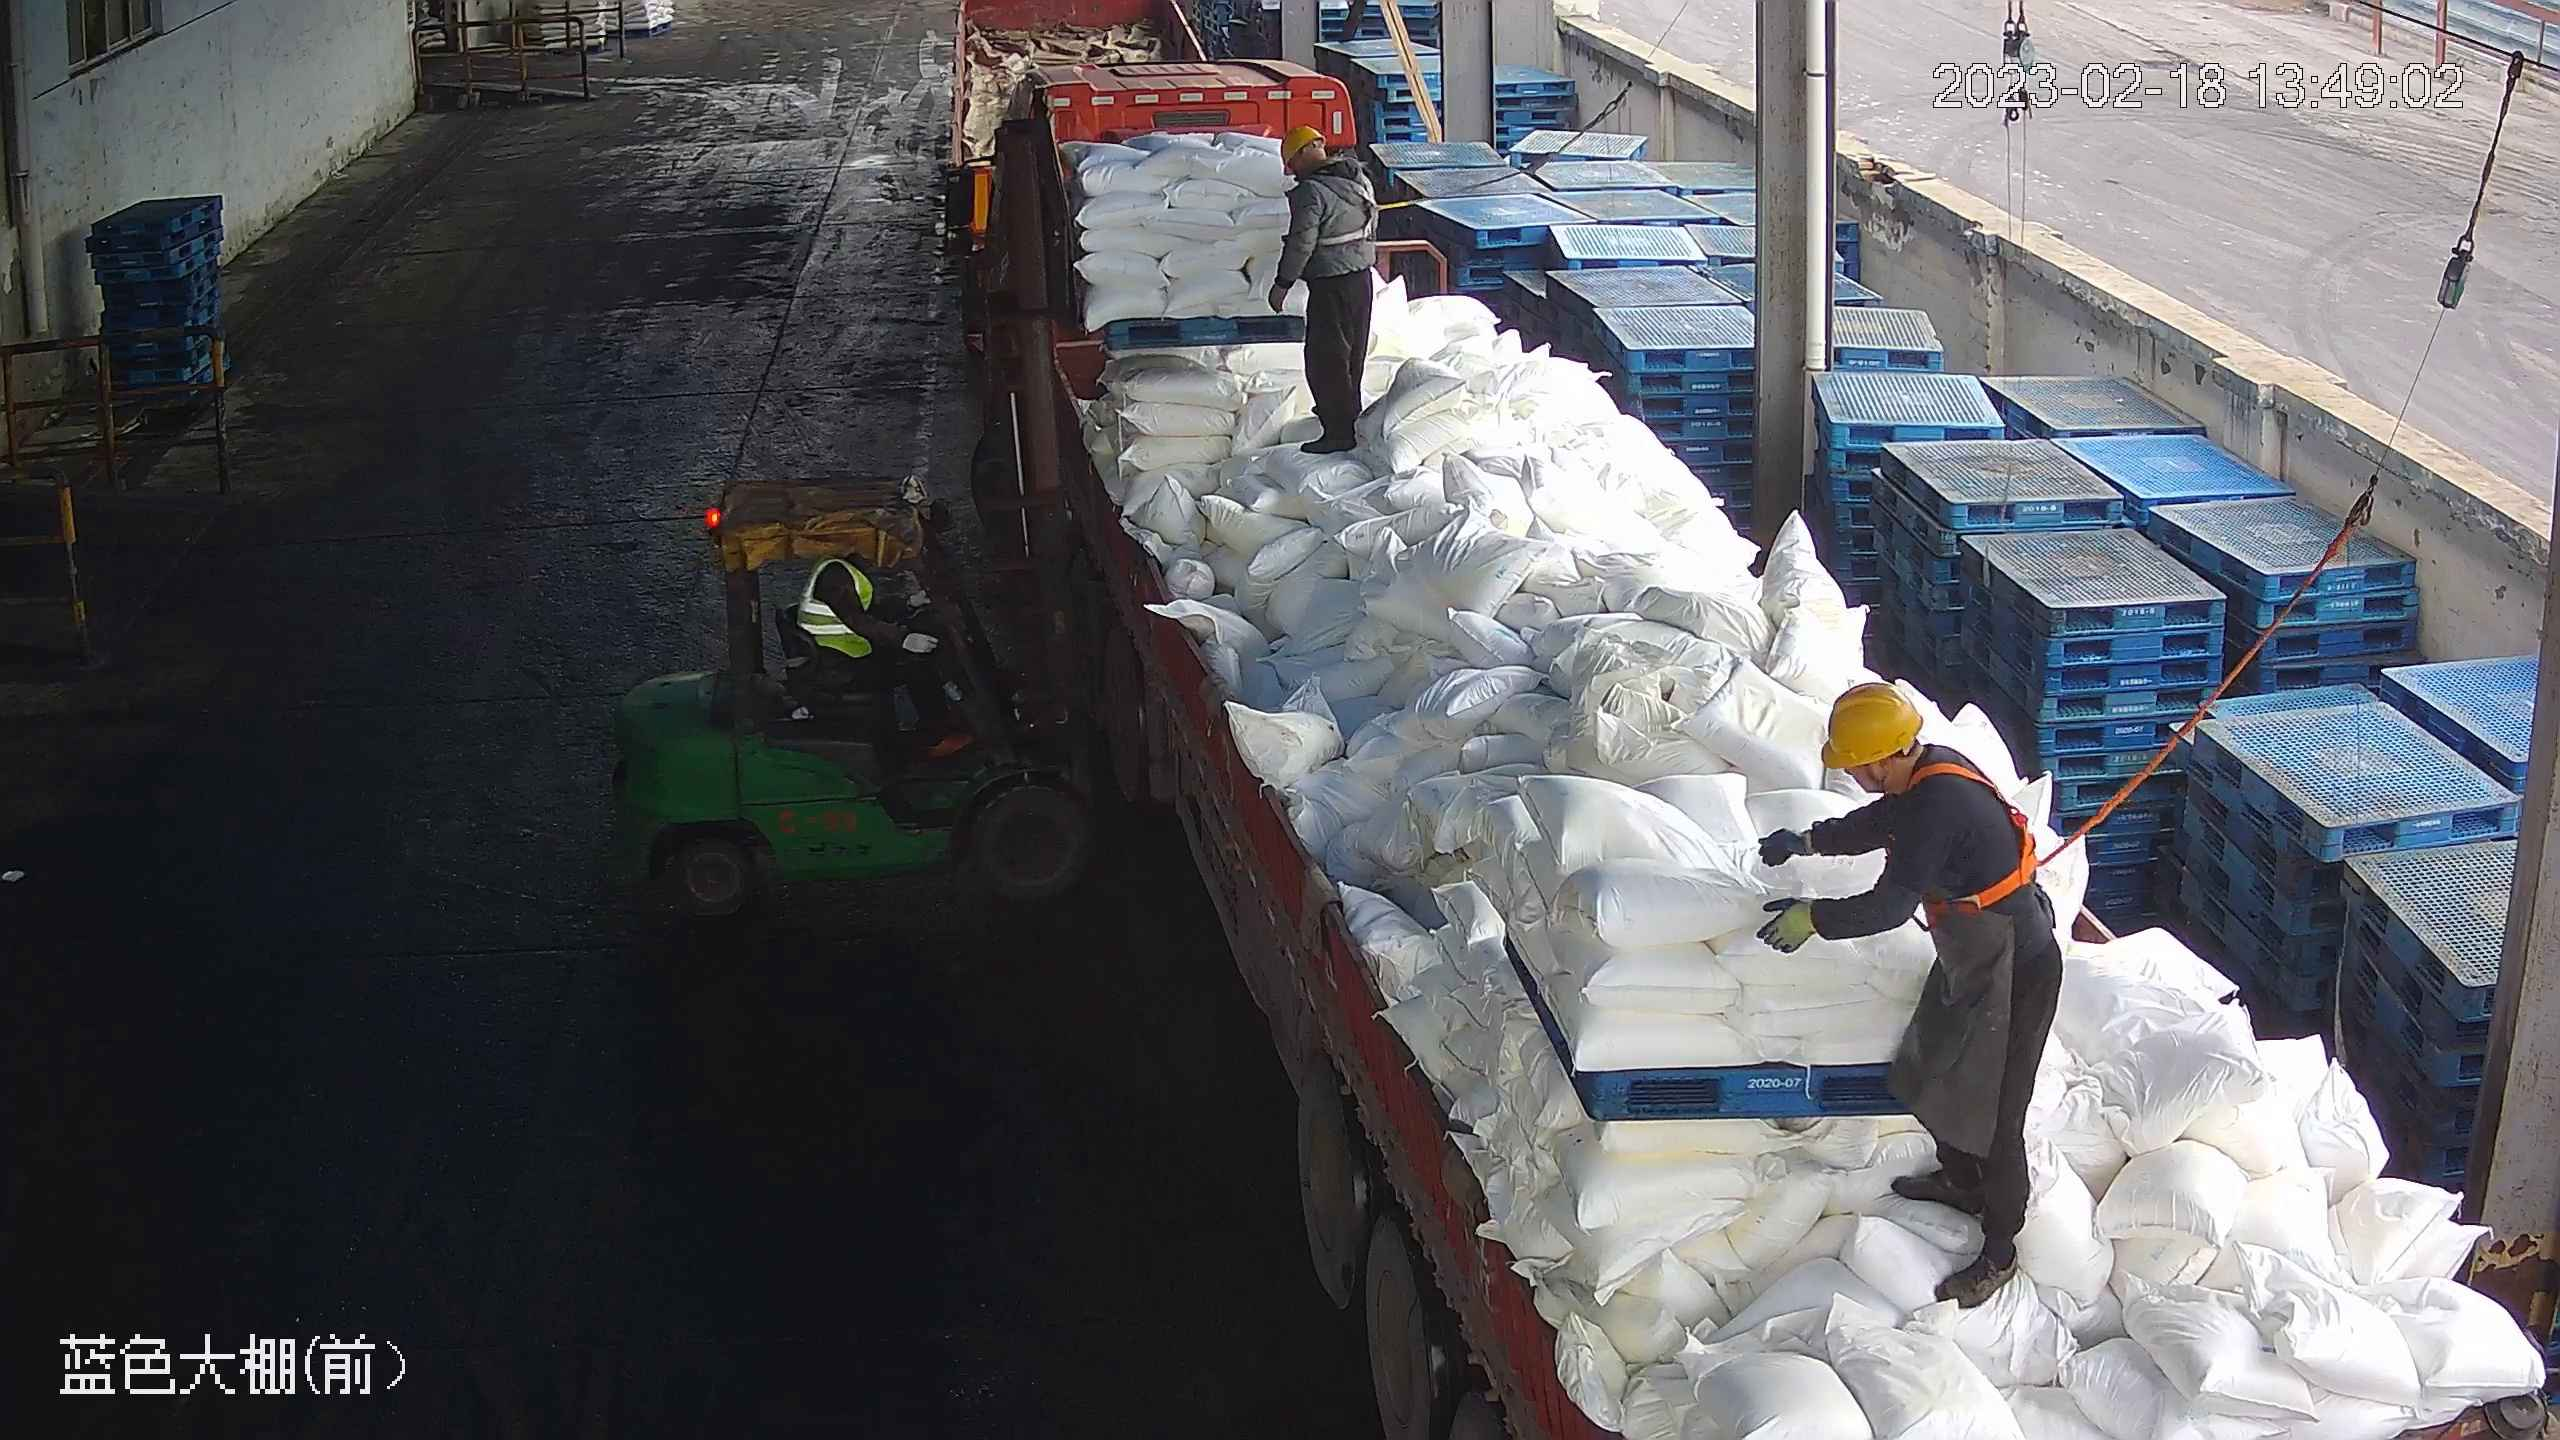belt: (1920, 741, 2073, 917), (1313, 156, 1394, 245)
head: (1807, 679, 2026, 890), (1278, 123, 1375, 215)
helmet: (1816, 680, 1924, 769), (1278, 123, 1325, 164)
people: (1756, 680, 2063, 1307), (1265, 117, 1382, 449), (795, 539, 966, 756)
truck: (938, 57, 2560, 1440)
